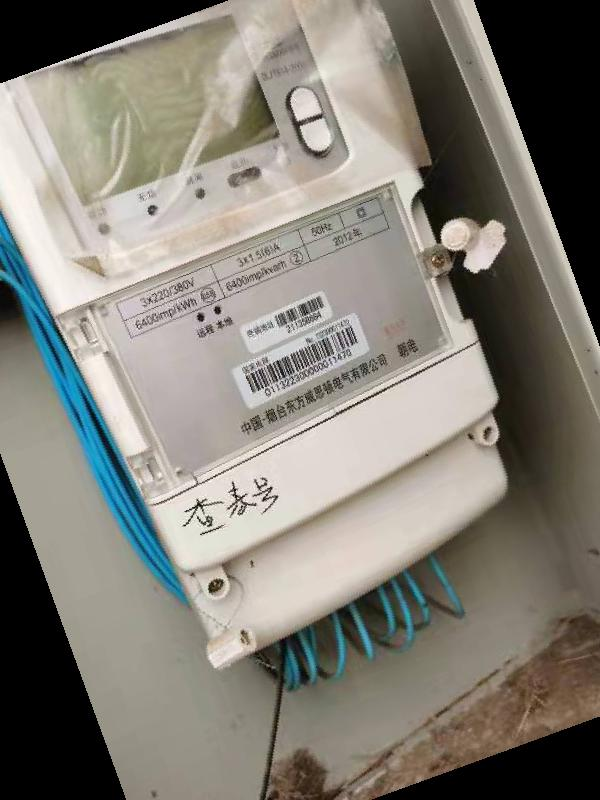digital: (2, 1, 499, 569)
